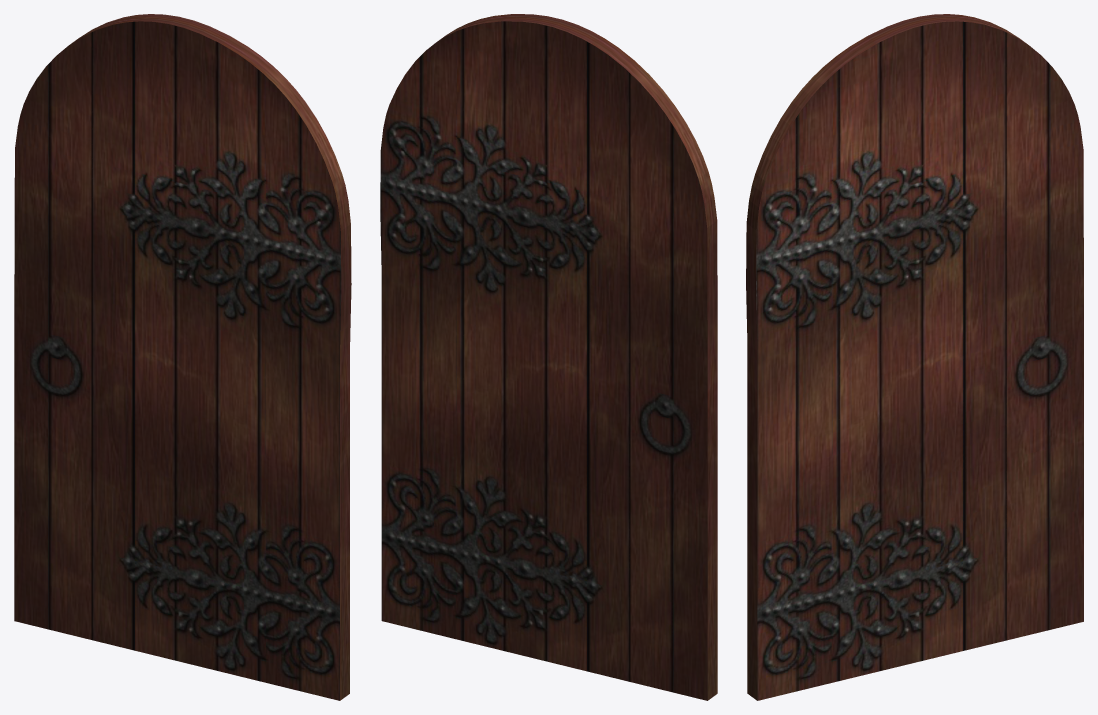
File: door 18.obj
3 renders of one model, left to right at view 1: azimuth 30°, elevation 25°; view 2: azimuth 210°, elevation 25°; view 3: azimuth 270°, elevation 25°, orthographic.
Visible parts, largest first — view 1: door_10:Mesh; view 2: door_10:Mesh; view 3: door_10:Mesh.
Part boxes in pixels (x1=…): door_10:Mesh: x1=14, y1=14, x2=351, y2=700; door_10:Mesh: x1=380, y1=14, x2=717, y2=700; door_10:Mesh: x1=746, y1=14, x2=1083, y2=700.
Size of the model in its own units: 35.19 by 120 by 57.78.
1 material, 1 textured.
